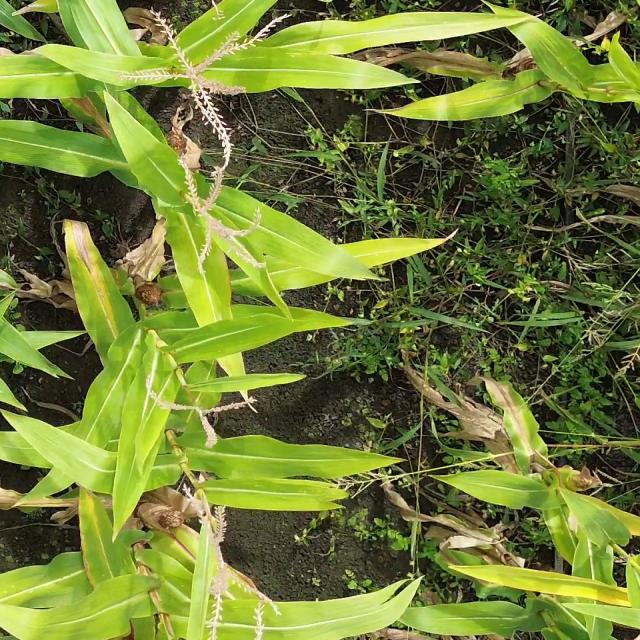northern-leaf-blight: (67, 213, 160, 362), (67, 484, 164, 590)
